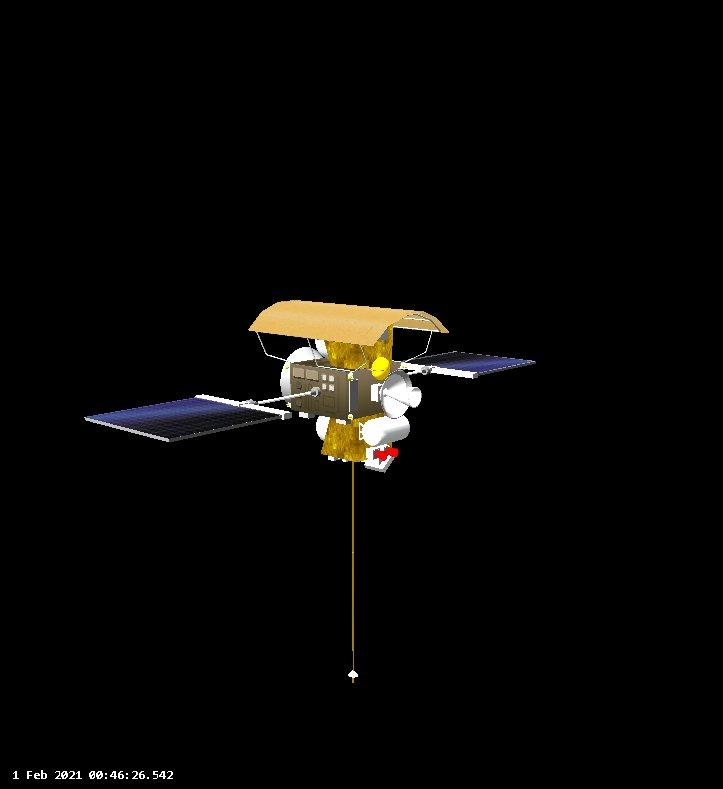antenna: (342, 454, 363, 688), (277, 345, 328, 410)
body: (284, 349, 403, 425)
solar: (79, 387, 294, 446), (396, 347, 539, 382)
thruster: (377, 365, 425, 420), (370, 445, 391, 465), (380, 445, 402, 459)
